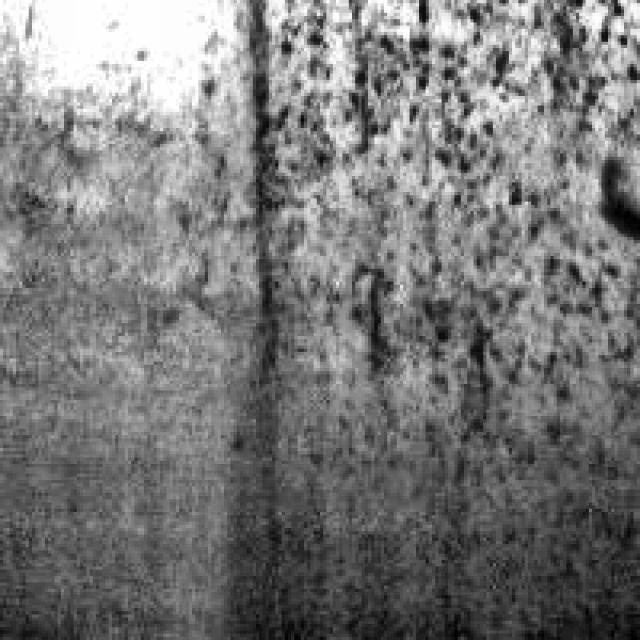Rolled_in_Scale: (236, 0, 634, 544)
